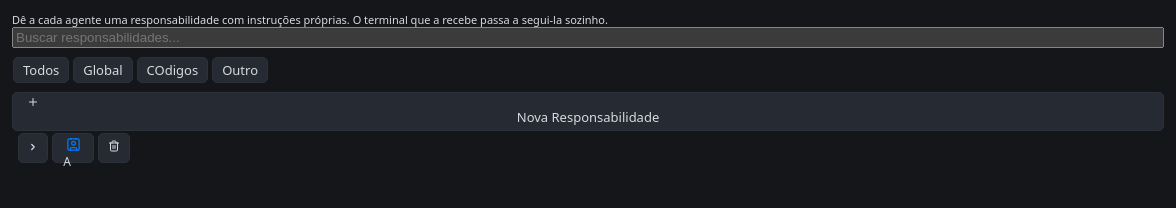
Test case: menu do botão direito: seleção, editar e excluir
The image size is (1176, 208).
Right-click the element with class "library-row": (74, 148) [18,132,130,162]
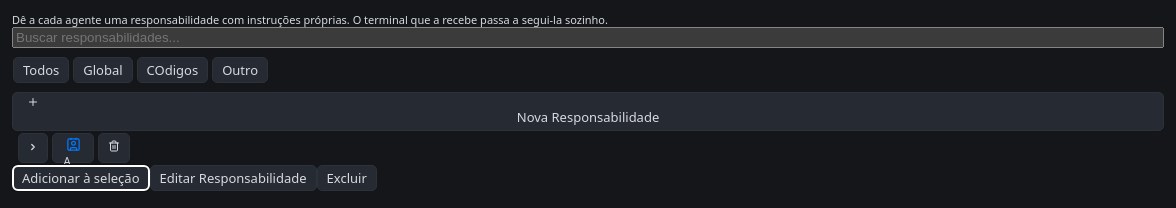
Click the menu item "Adicionar à seleção": (81, 178) [12,164,150,191]
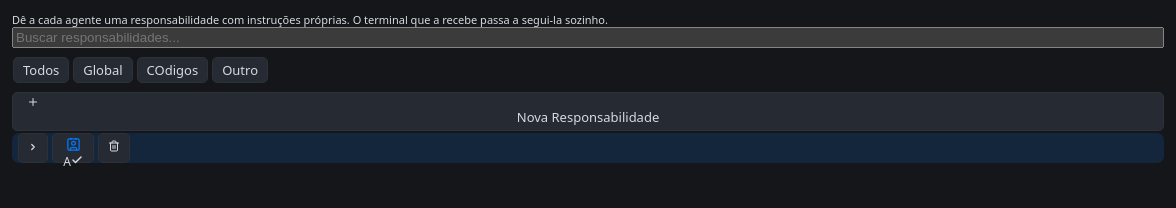
Expected: the element with class "library-row" is shown, [12,132,1164,162]
Expected: the menu is gone
